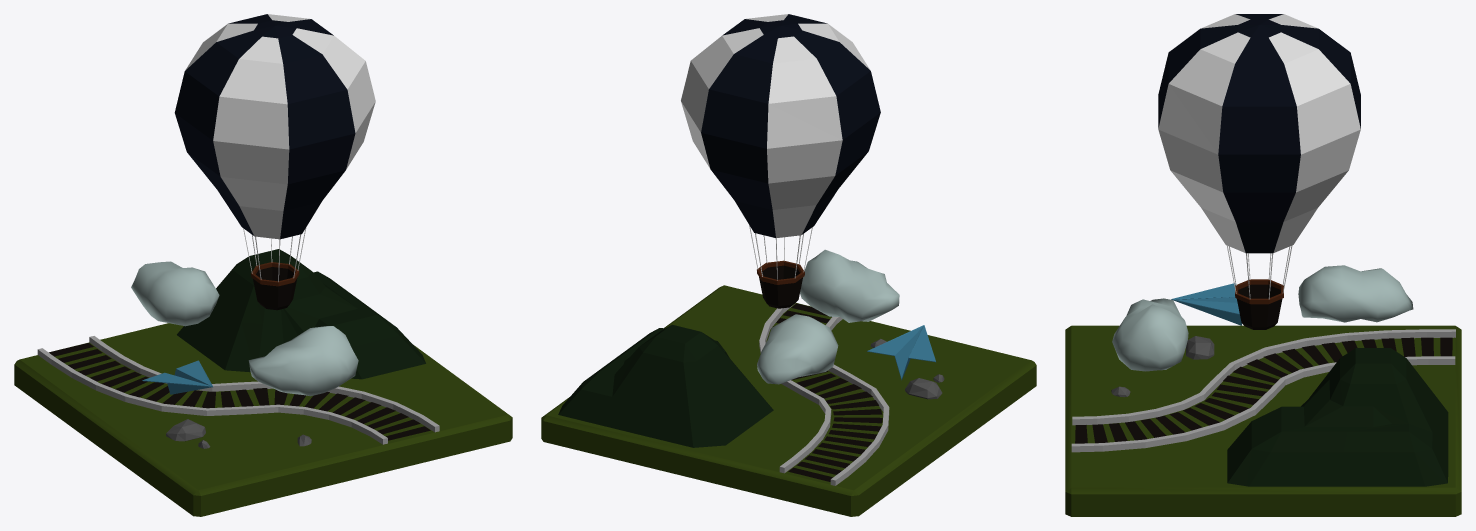
File: W_O_Playground_BeachSymbolic_001_L1.fbx
3 views of the same model, side by side, from view 1: azimuth 30°, elevation 25°; view 2: azimuth 150°, elevation 25°; view 3: azimuth 270°, elevation 25° (orthographic). The views are drawn at different scales.
Parts seen in each view (by area): view 1: W_O_Playground_BeachSymbolic_001_L1; view 2: W_O_Playground_BeachSymbolic_001_L1; view 3: W_O_Playground_BeachSymbolic_001_L1.
Boxes of the visible parts, x1=… form: W_O_Playground_BeachSymbolic_001_L1: x1=14, y1=14, x2=512, y2=516; W_O_Playground_BeachSymbolic_001_L1: x1=541, y1=14, x2=1036, y2=516; W_O_Playground_BeachSymbolic_001_L1: x1=1065, y1=14, x2=1461, y2=516.
Bounding box in the file's own units: 2 × 2.3 × 2.
